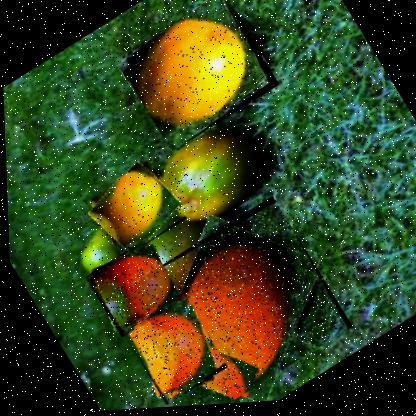orange: (115, 193, 353, 410), (112, 0, 281, 155), (119, 293, 227, 408), (80, 157, 187, 263), (81, 236, 183, 339)
